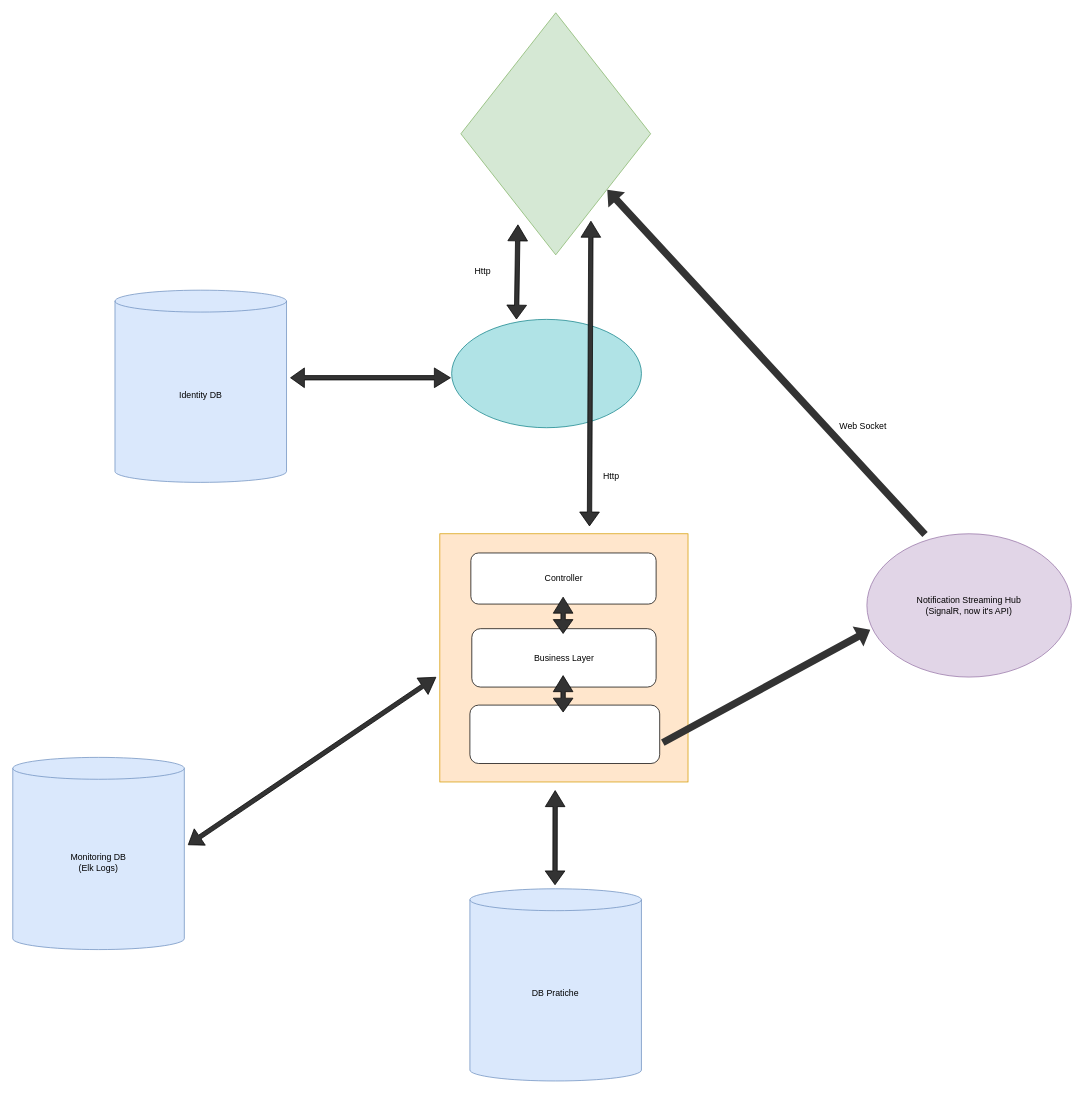
Image size: 1084x1094. Some labels were removed from this diagram. Here are the shapes that lost their labels. From the top down, the box of each, then its label:
(460, 12, 651, 255): Front End
(451, 319, 641, 428): Identity Provider
(469, 704, 660, 764): Data Layer
